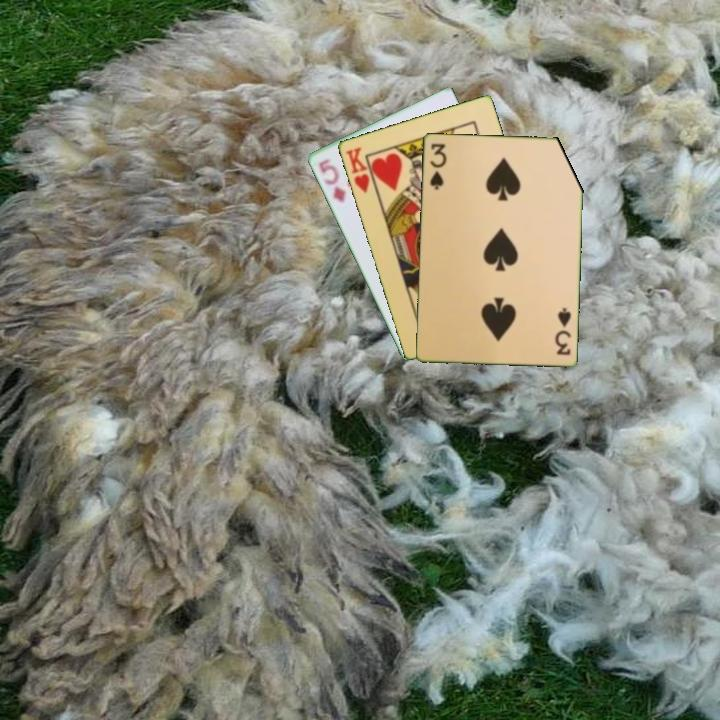3s: (551, 304, 574, 357), (426, 140, 448, 192)
5d: (315, 155, 349, 205)
Kh: (342, 144, 379, 196)
